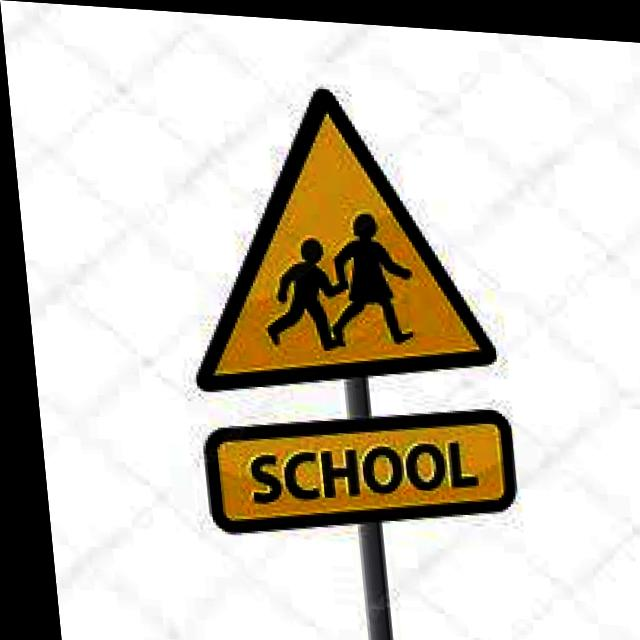SCHOOL_AHEAD: (164, 74, 500, 407)
